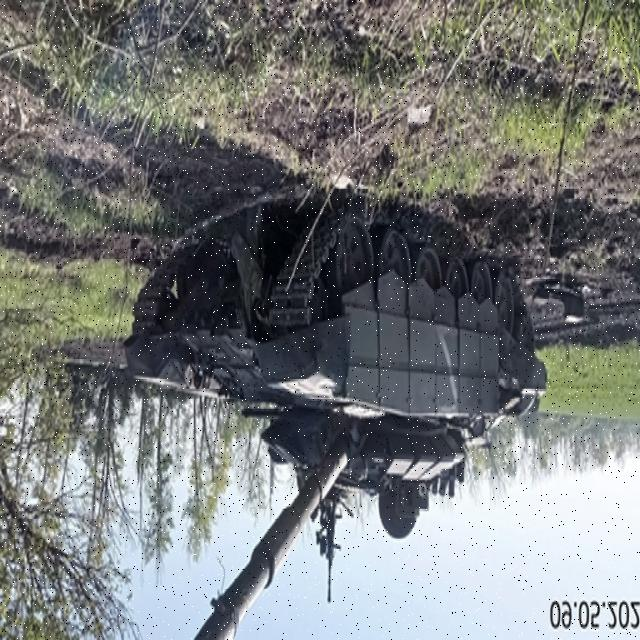TANK: (122, 202, 548, 638)
